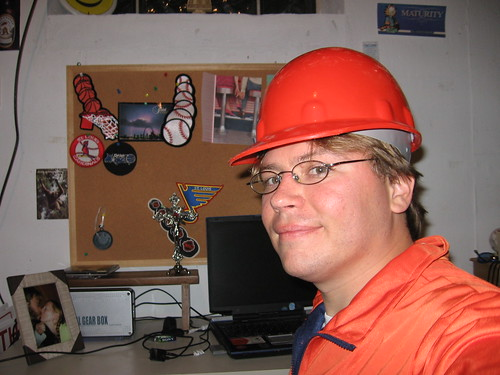person hardhat: (228, 45, 500, 375)
